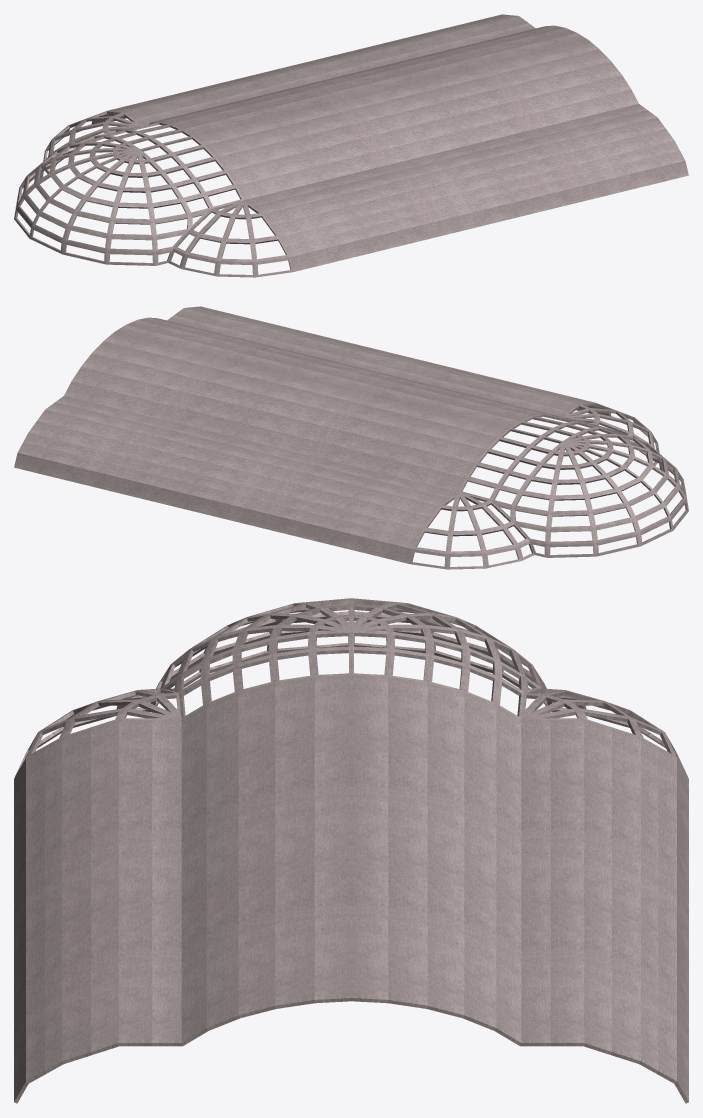
The model's file is Roof.fbx.
3 views of the same model, one above another, from view 1: azimuth 30°, elevation 25°; view 2: azimuth 150°, elevation 25°; view 3: azimuth 270°, elevation 25° (orthographic). The views are drawn at different scales.
Parts seen in each view (by area): view 1: Roof; view 2: Roof; view 3: Roof.
Part boxes in pixels (bbox=[...]): Roof: bbox=[14, 14, 688, 277]; Roof: bbox=[14, 306, 688, 569]; Roof: bbox=[14, 598, 688, 1103].
Size of what is drawn, in the model's own units: 29519 by 3228 by 18410.
